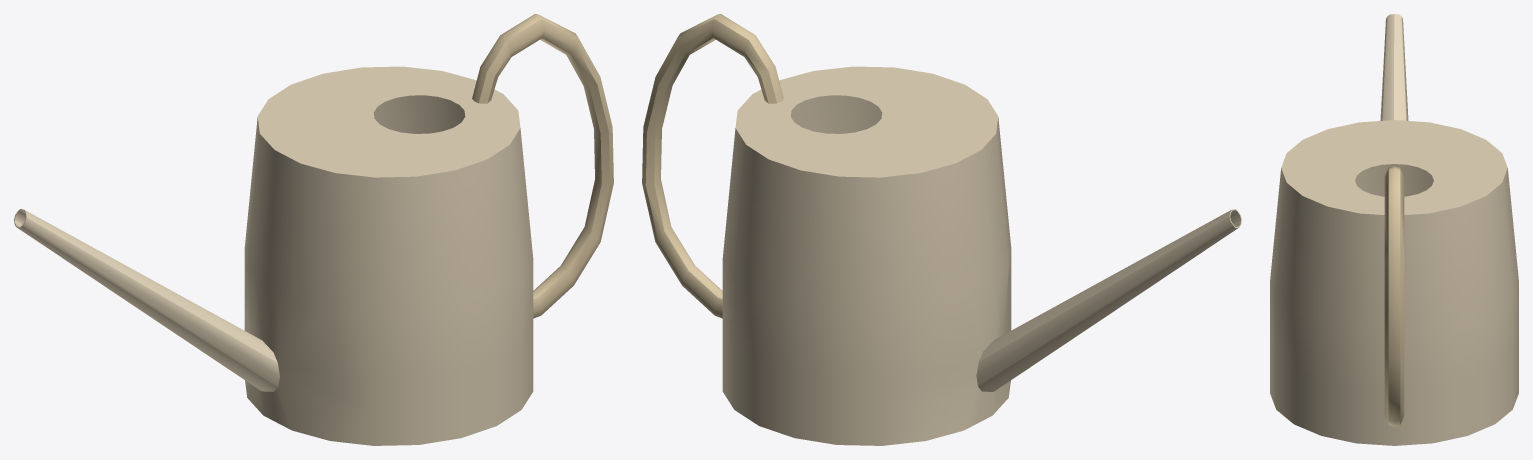
The model's file is Watering_can.fbx.
The picture shows the model from 3 angles, left to right: view 1: azimuth 30°, elevation 25°; view 2: azimuth 150°, elevation 25°; view 3: azimuth 270°, elevation 25°; orthographic projection. The views are drawn at different scales.
Visible parts, largest first — view 1: Wateringcan; view 2: Wateringcan; view 3: Wateringcan.
Boxes of the visible parts, box(x1,y1,x2,y2) form: Wateringcan: box(14, 14, 613, 445); Wateringcan: box(642, 14, 1241, 445); Wateringcan: box(1270, 14, 1518, 445).
Size of the model in its own units: 0.3876 by 0.2081 by 0.1637.
